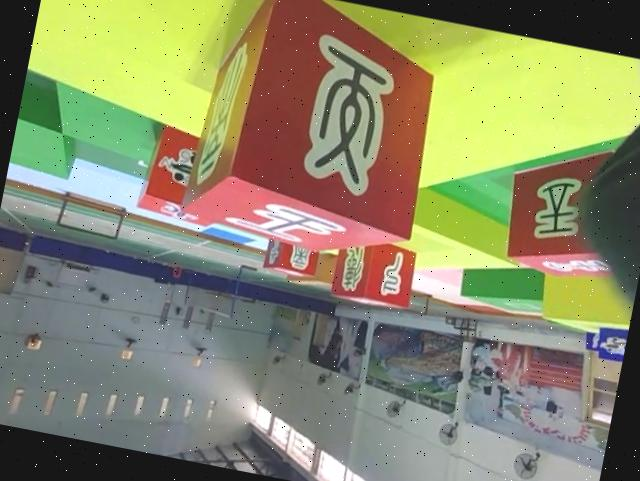R1: (133, 120, 233, 229)
R2 Fake: (179, 0, 452, 266), (329, 232, 422, 312), (262, 219, 325, 279)
R2 Real: (496, 130, 640, 287)
